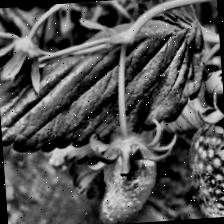Powdery Mildew Fruit: (93, 131, 160, 224), (184, 103, 224, 218)
